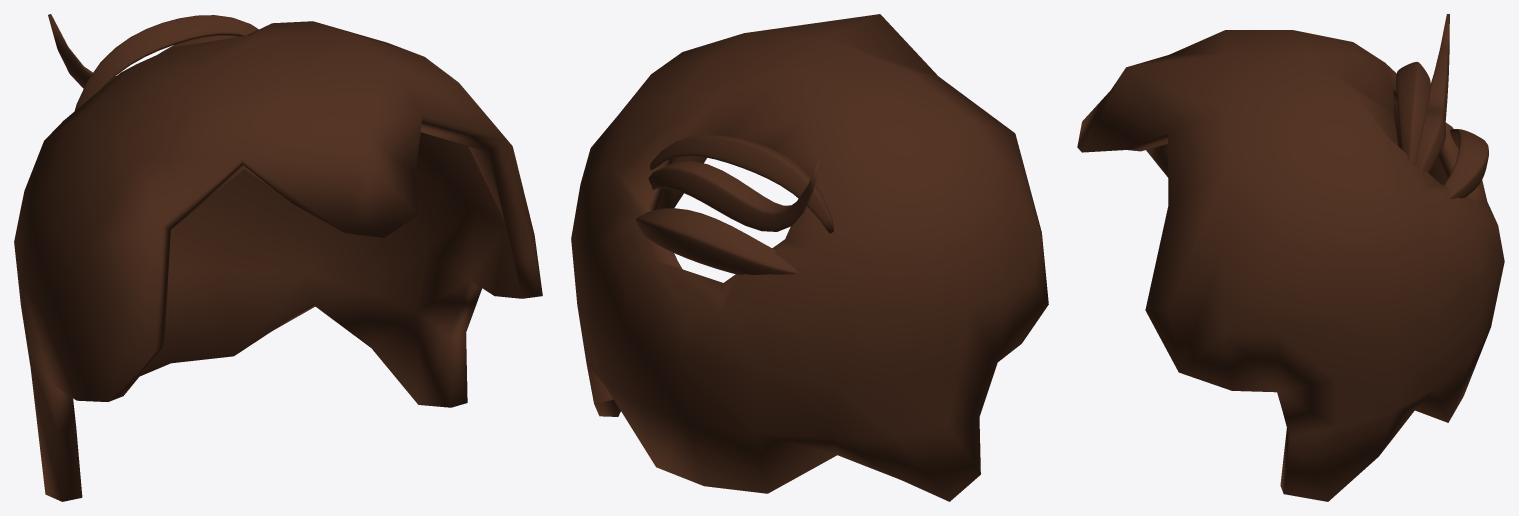
The picture shows the model from 3 angles, left to right: view 1: azimuth 30°, elevation 25°; view 2: azimuth 150°, elevation 25°; view 3: azimuth 270°, elevation 25°; orthographic projection. The views are drawn at different scales.
Parts seen in each view (by area): view 1: hairShortBalding; view 2: hairShortBalding; view 3: hairShortBalding.
Boxes of the visible parts, x1,y1,x2,y2 form: hairShortBalding: (14,14,542,501); hairShortBalding: (571,14,1048,501); hairShortBalding: (1077,14,1504,501).
Size of the model in its own units: 0.4939 by 0.4418 by 0.4665.
1 material, 1 textured.
